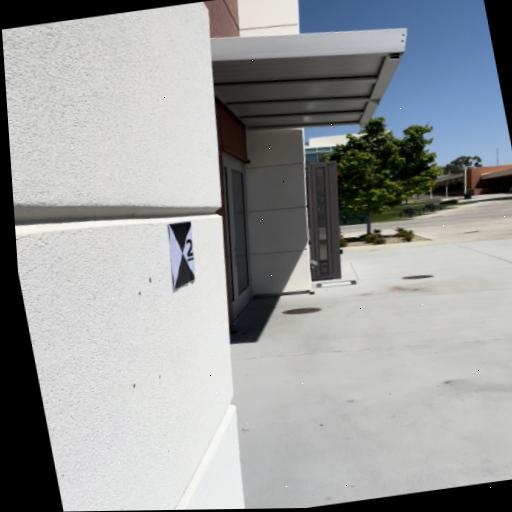target2: (166, 220, 198, 292)
